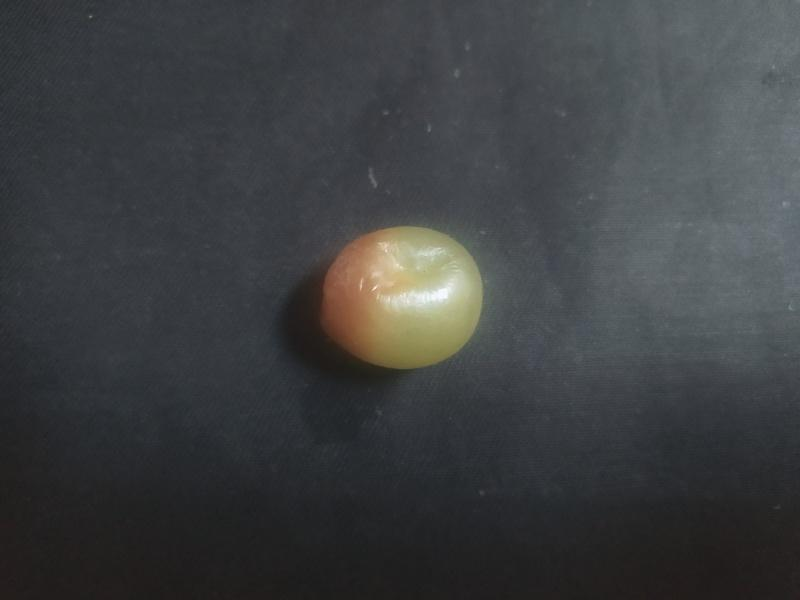Grape Overripe: (318, 220, 485, 371)
